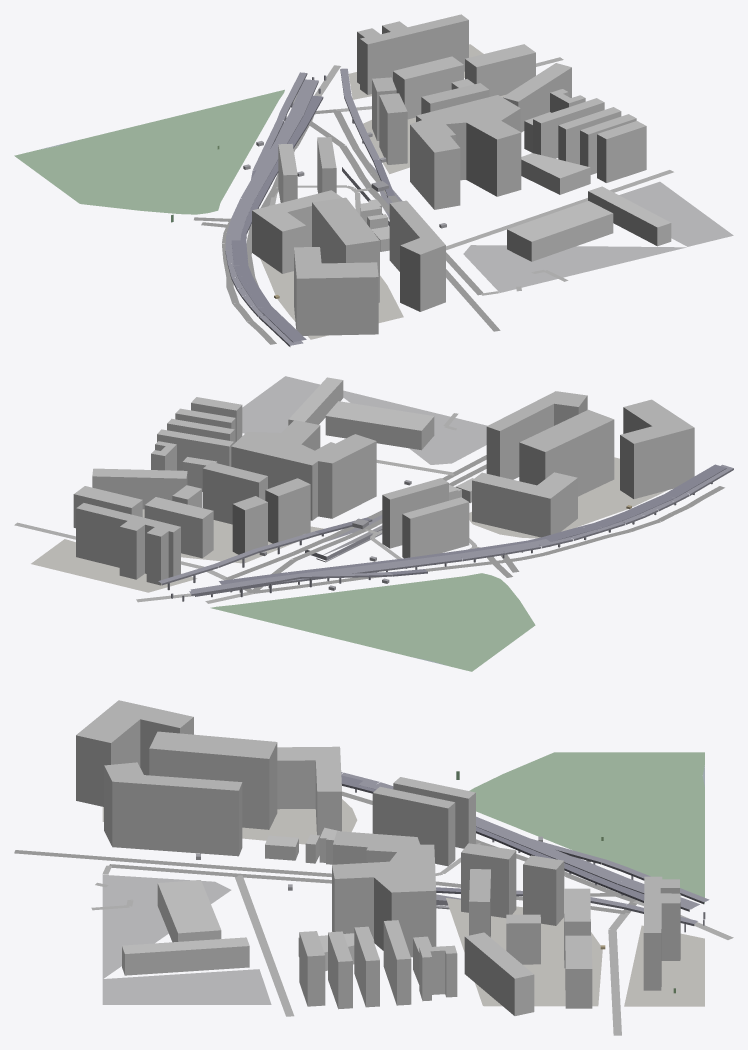
The picture shows the model from 3 angles, top to bottom: view 1: azimuth 30°, elevation 25°; view 2: azimuth 150°, elevation 25°; view 3: azimuth 270°, elevation 25°; orthographic projection. The views are drawn at different scales.
Bounding box in the file's own units: 562 × 82.13 × 598.
